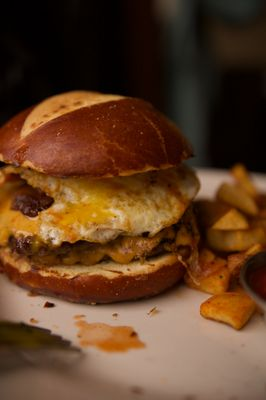soup: (0, 89, 203, 304)
